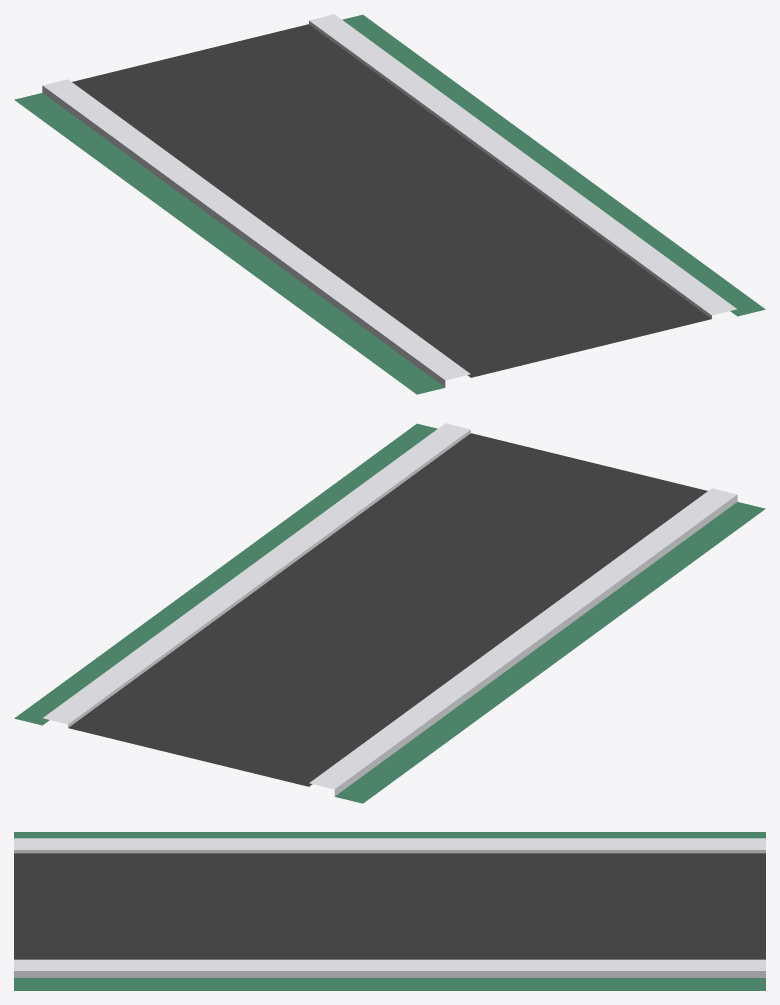
File: roadStraightLong.glb
3 renders of one model, top to bottom at view 1: azimuth 30°, elevation 25°; view 2: azimuth 150°, elevation 25°; view 3: azimuth 270°, elevation 25°, orthographic. The views are drawn at different scales.
Parts seen in each view (by area): view 1: roadStraightLong; view 2: roadStraightLong; view 3: roadStraightLong.
Part boxes in pixels (bbox=[...]): roadStraightLong: bbox=[14, 14, 765, 394]; roadStraightLong: bbox=[14, 423, 765, 803]; roadStraightLong: bbox=[14, 832, 765, 990].
Bounding box in the file's own units: 1 × 0.02 × 2.
